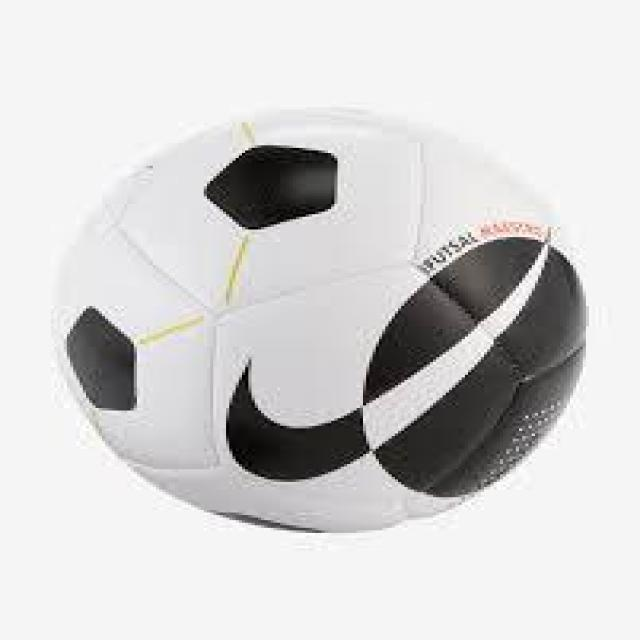Soccer Ball: (63, 104, 582, 533)
